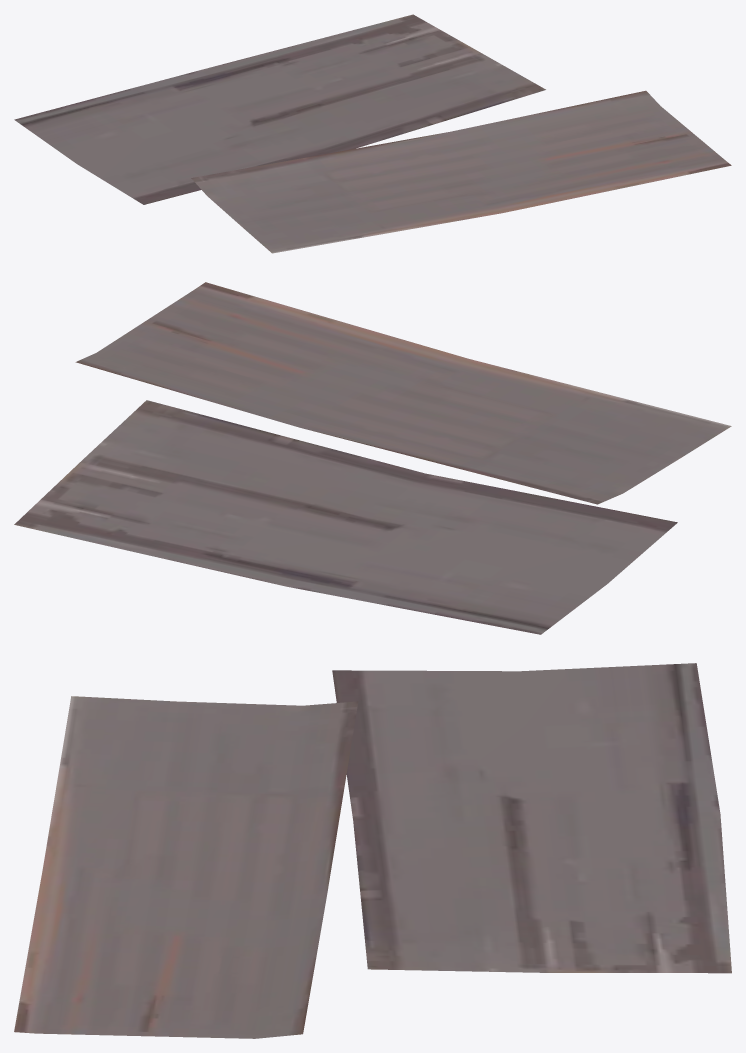
3 views of the same model, one above another, from view 1: azimuth 30°, elevation 25°; view 2: azimuth 150°, elevation 25°; view 3: azimuth 270°, elevation 25° (orthographic). The views are drawn at different scales.
Parts seen in each view (by area): view 1: body0_model0_lod0_mesh0; view 2: body0_model0_lod0_mesh0; view 3: body0_model0_lod0_mesh0.
Boxes of the visible parts, bbox=[...] form: body0_model0_lod0_mesh0: bbox=[14, 14, 731, 253]; body0_model0_lod0_mesh0: bbox=[14, 282, 731, 634]; body0_model0_lod0_mesh0: bbox=[14, 663, 731, 1038].
Size of the model in its own units: 164 by 3.26 by 133.
Materials: 1 (1 with a texture image).
